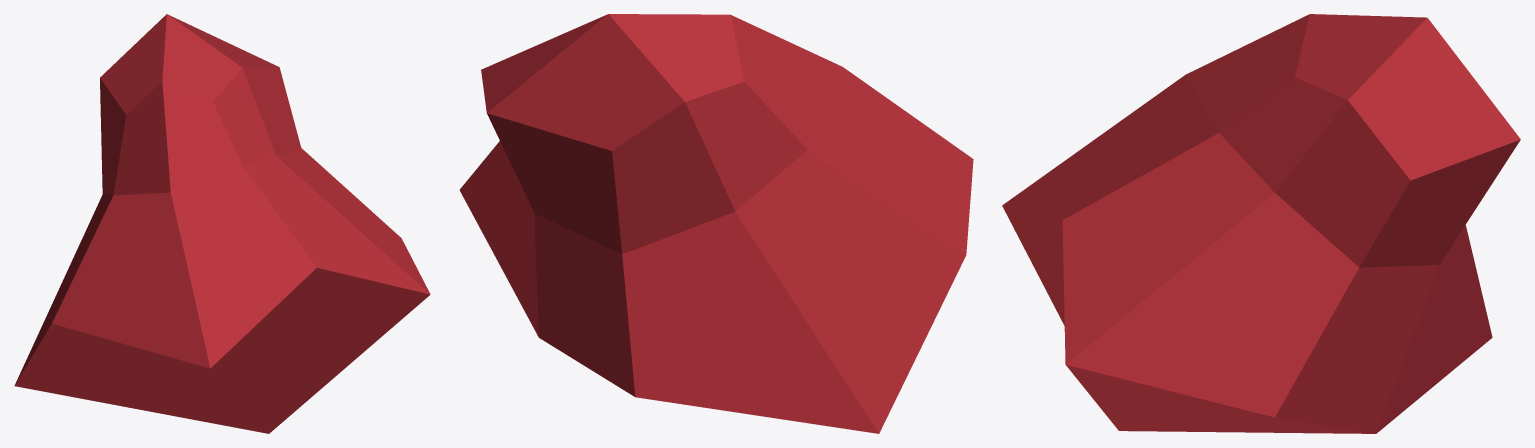
The model's file is Berry.glb.
3 renders of one model, left to right at view 1: azimuth 30°, elevation 25°; view 2: azimuth 150°, elevation 25°; view 3: azimuth 270°, elevation 25°, orthographic. The views are drawn at different scales.
Visible parts, largest first — view 1: Berry; view 2: Berry; view 3: Berry.
Boxes of the visible parts, x1,y1,x2,y2 form: Berry: [14, 14, 430, 433]; Berry: [459, 14, 973, 433]; Berry: [1002, 14, 1520, 433].
Bounding box in the file's own units: 0.1523 × 0.128 × 0.1419.
